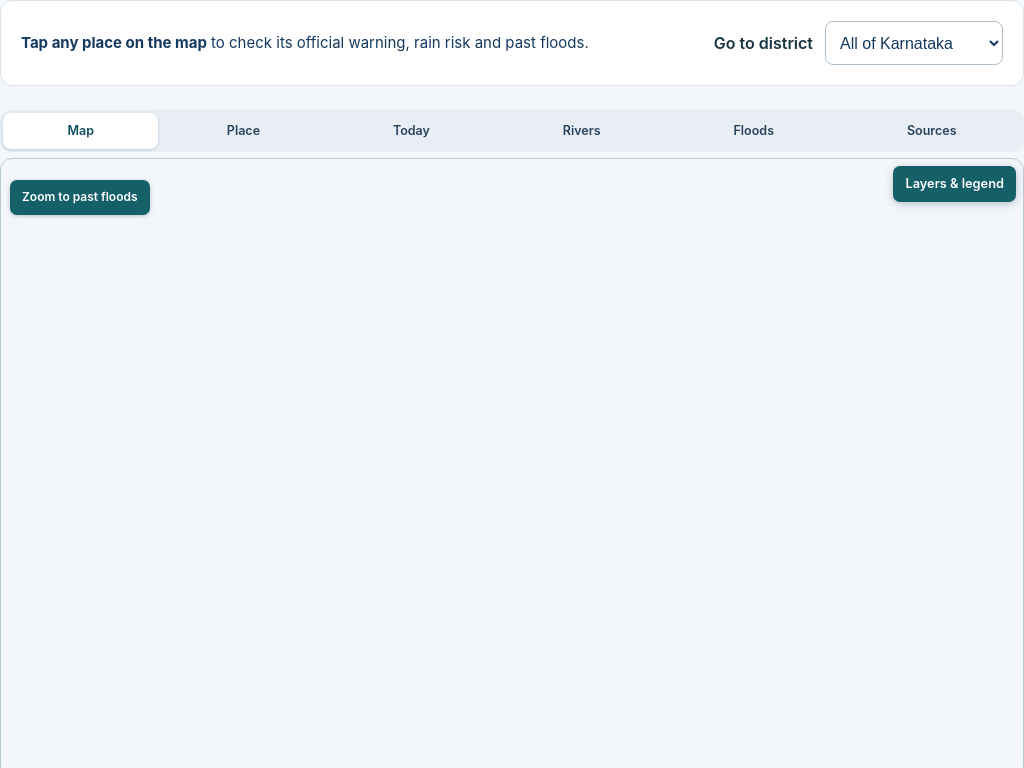
Test: a district without directory bounds is framed by its IMD outline, and Today then shows only that district
The width and height of the screenshot is (1024, 768).
Step 1. Select "Kodagu" in the dropdown labelled "Go to district" → (914, 43), box [825,21,1003,65]
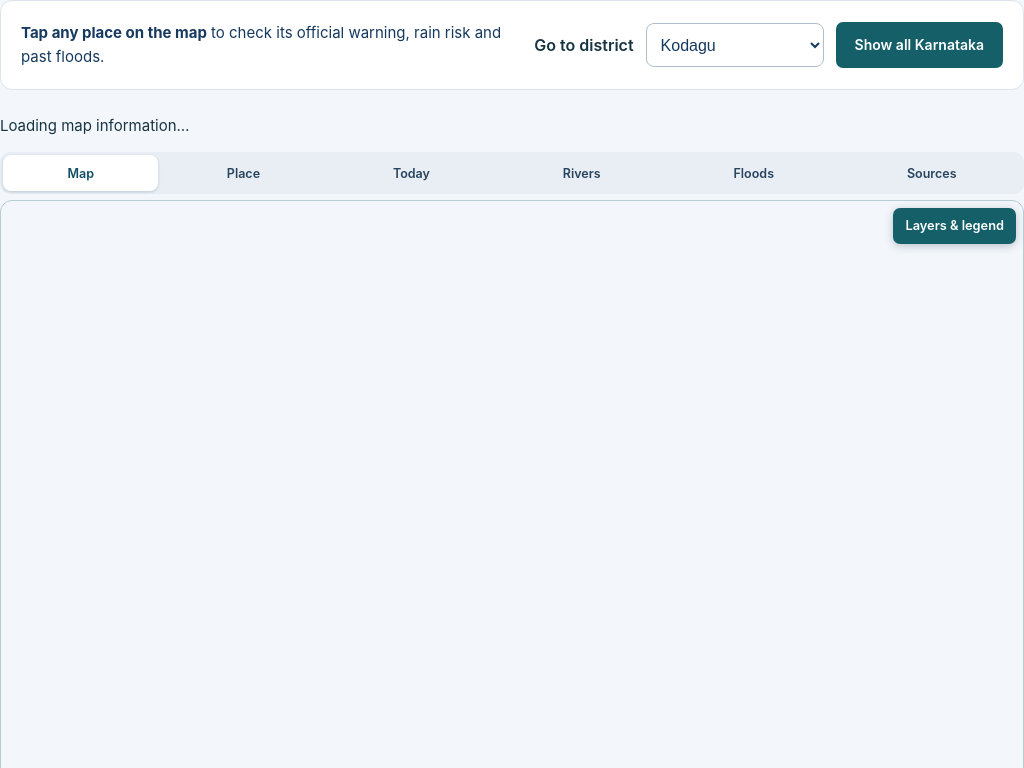
Step 2. Click the tab "Today" → (411, 173), box [328,155,494,191]
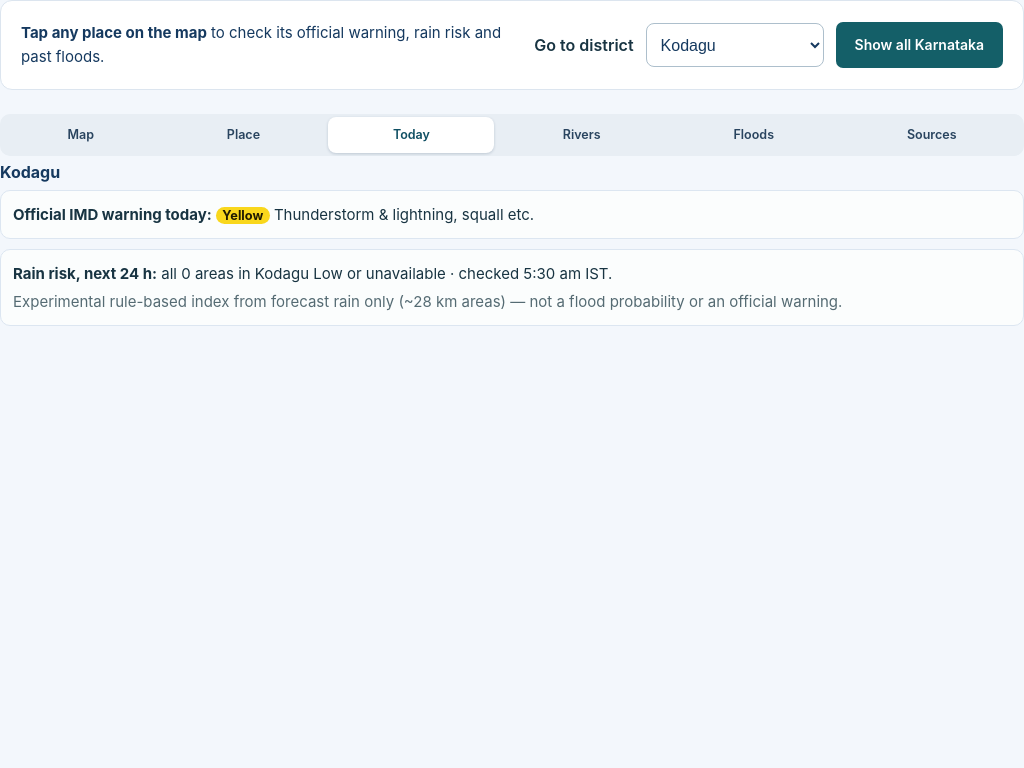
Now the element with class "official-district-status" reads "Official IMD warning today: Yellow Thunderstorm & lightning, squall etc.", box [0,190,1023,239]
Now the element with class "risk-grid-status" shows "areas in Kodagu", box [161,264,608,283]
